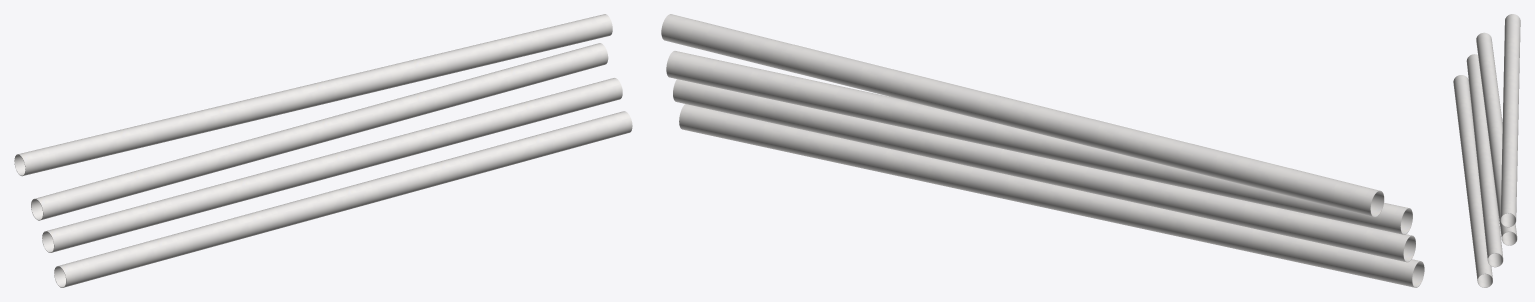
File: COB-CAL-005_anim.glb
3 renders of one model, left to right at view 1: azimuth 30°, elevation 25°; view 2: azimuth 150°, elevation 25°; view 3: azimuth 270°, elevation 25°, orthographic. The views are drawn at different scales.
Parts seen in each view (by area): view 1: COB-CAL-005_anim3, COB-CAL-005_anim1, COB-CAL-005_anim0, COB-CAL-005_anim2; view 2: COB-CAL-005_anim3, COB-CAL-005_anim0, COB-CAL-005_anim1, COB-CAL-005_anim2; view 3: COB-CAL-005_anim3, COB-CAL-005_anim1, COB-CAL-005_anim0, COB-CAL-005_anim2.
Part boxes in pixels (box(x1,y1,x2,y2)): COB-CAL-005_anim3: box(14, 14, 612, 176); COB-CAL-005_anim1: box(42, 78, 622, 252); COB-CAL-005_anim0: box(54, 111, 632, 287); COB-CAL-005_anim2: box(31, 43, 608, 220); COB-CAL-005_anim3: box(661, 14, 1384, 217); COB-CAL-005_anim0: box(679, 104, 1424, 287); COB-CAL-005_anim1: box(673, 79, 1415, 262); COB-CAL-005_anim2: box(666, 51, 1412, 234); COB-CAL-005_anim3: box(1500, 14, 1520, 227); COB-CAL-005_anim1: box(1466, 54, 1503, 267); COB-CAL-005_anim0: box(1453, 75, 1492, 287); COB-CAL-005_anim2: box(1476, 32, 1517, 245).
Bounding box in the file's own units: 3.04 × 0.52 × 0.4282.
1 material, 1 textured.
